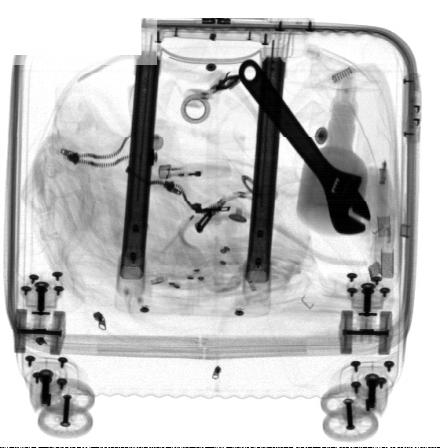Wrench: (237, 58, 371, 234)
